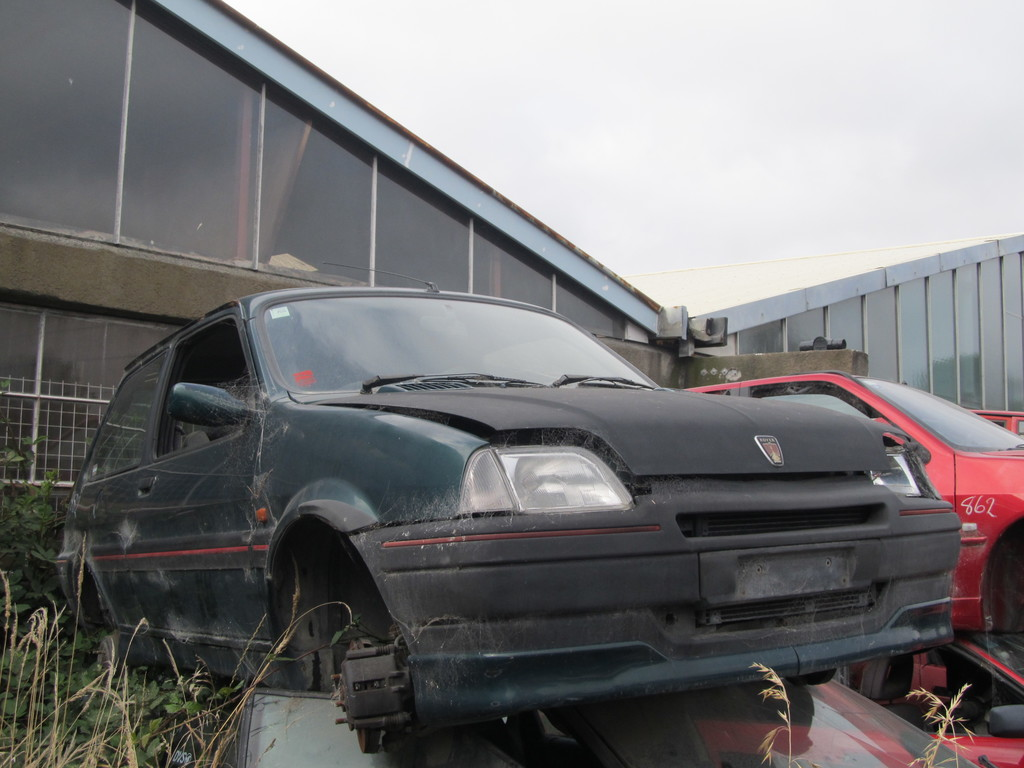cars: (53, 263, 1023, 767)
